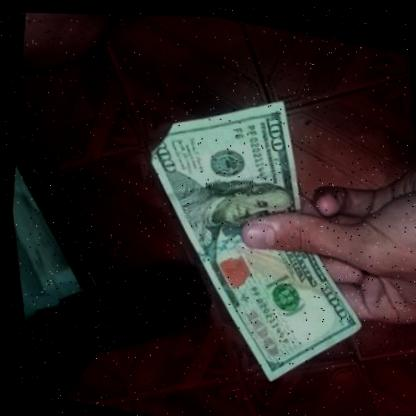one_hundred-front: (99, 55, 405, 411)
